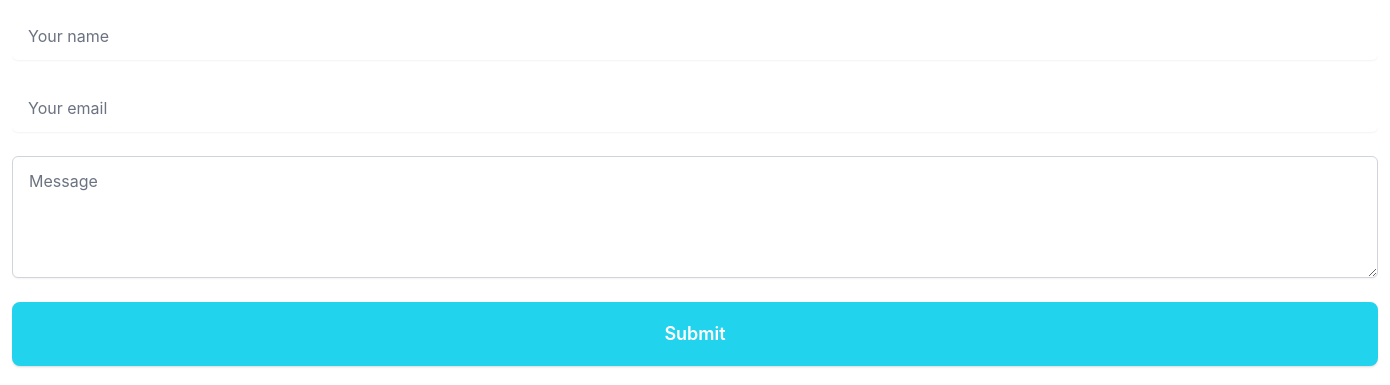
Test case: informs me something went wrong
This screenshot has width=1390, height=385.
// an email including "error" will result in a 500 response
Type "Yo!" into the text box labelled "Message" at (695, 217), box [12,156,1378,278]
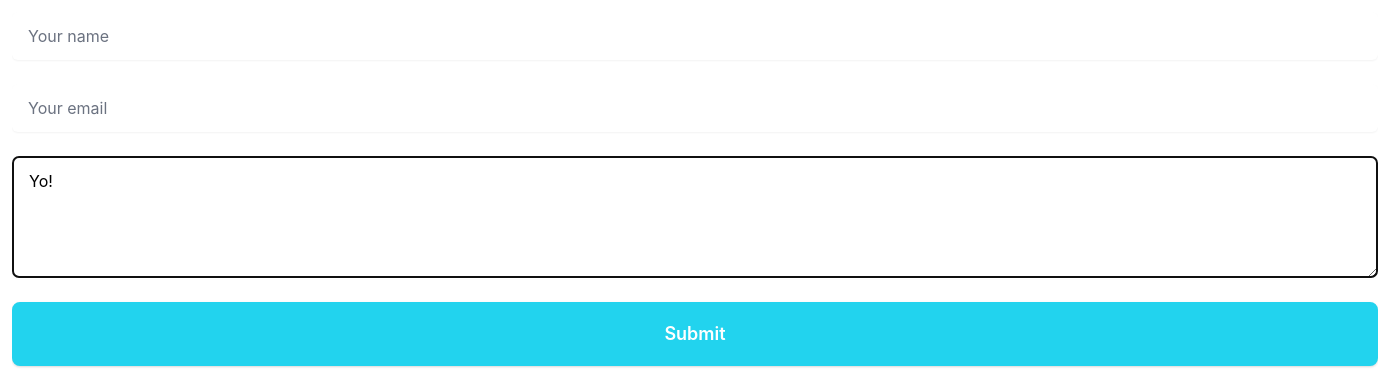
Type "Elena Example" into the field labelled "Your name" at (695, 36), box [12,12,1378,60]
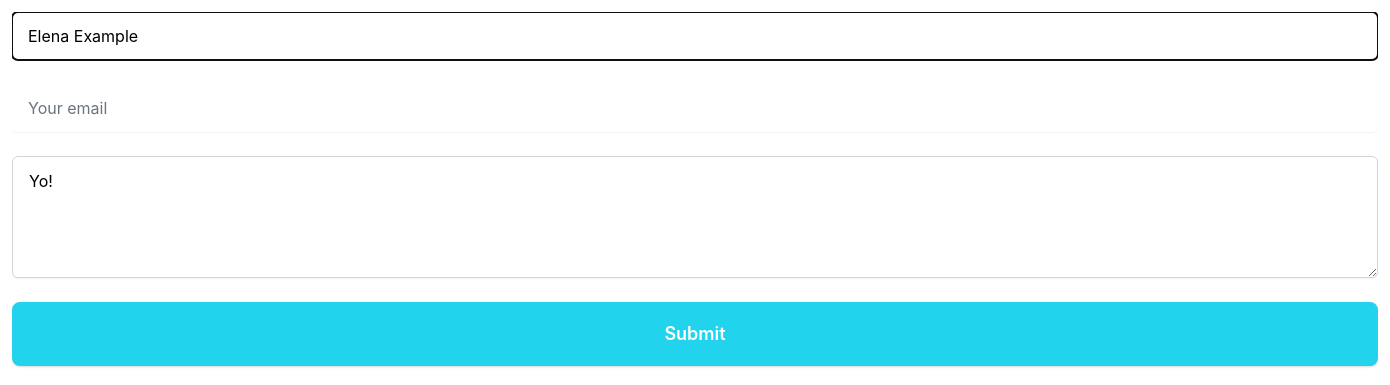
Type "elena@example.com" into the field labelled "Your email" at (695, 108), box [12,84,1378,132]
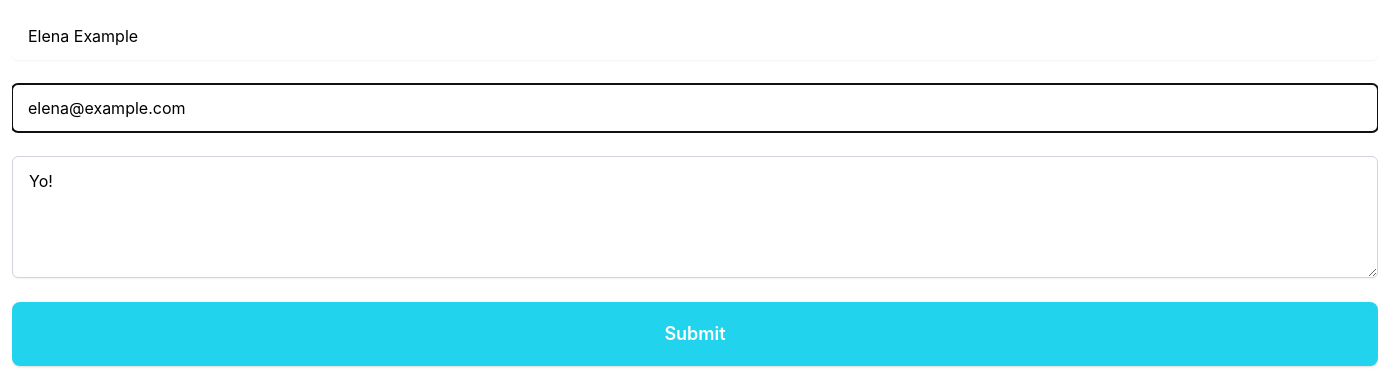
Click the button "Submit" at (695, 334), box [12,302,1378,366]
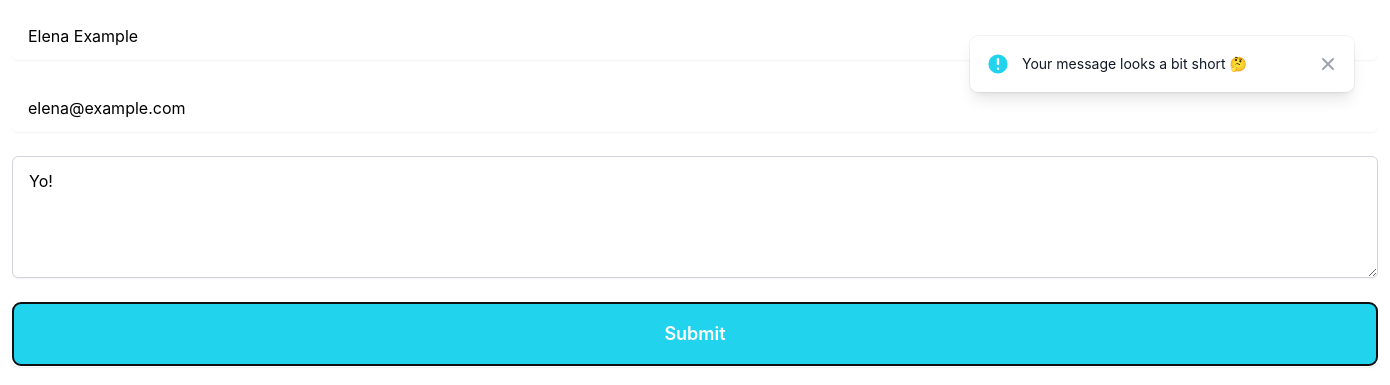
Result: the message "Your message looks a bit short 🤔" is shown at [970,36,1354,92]
